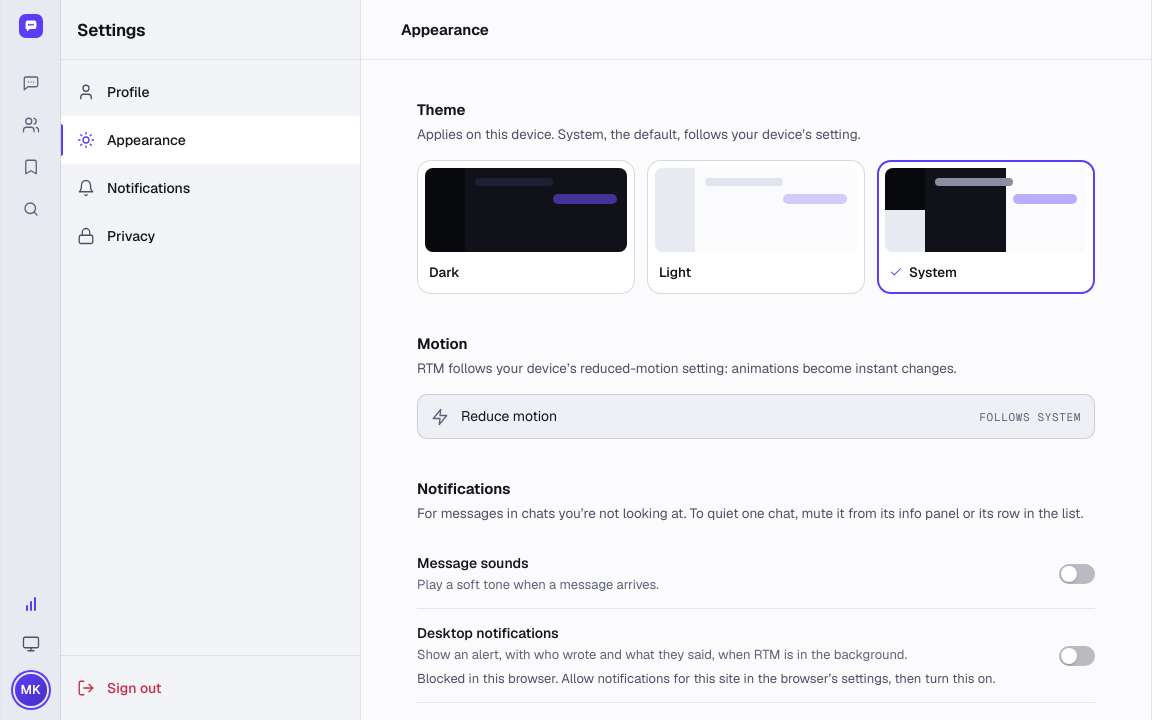
Test: Settings shell › goes back to the chat list from the rail
Click the button named "Chats": (30, 82) [12,64,48,100]
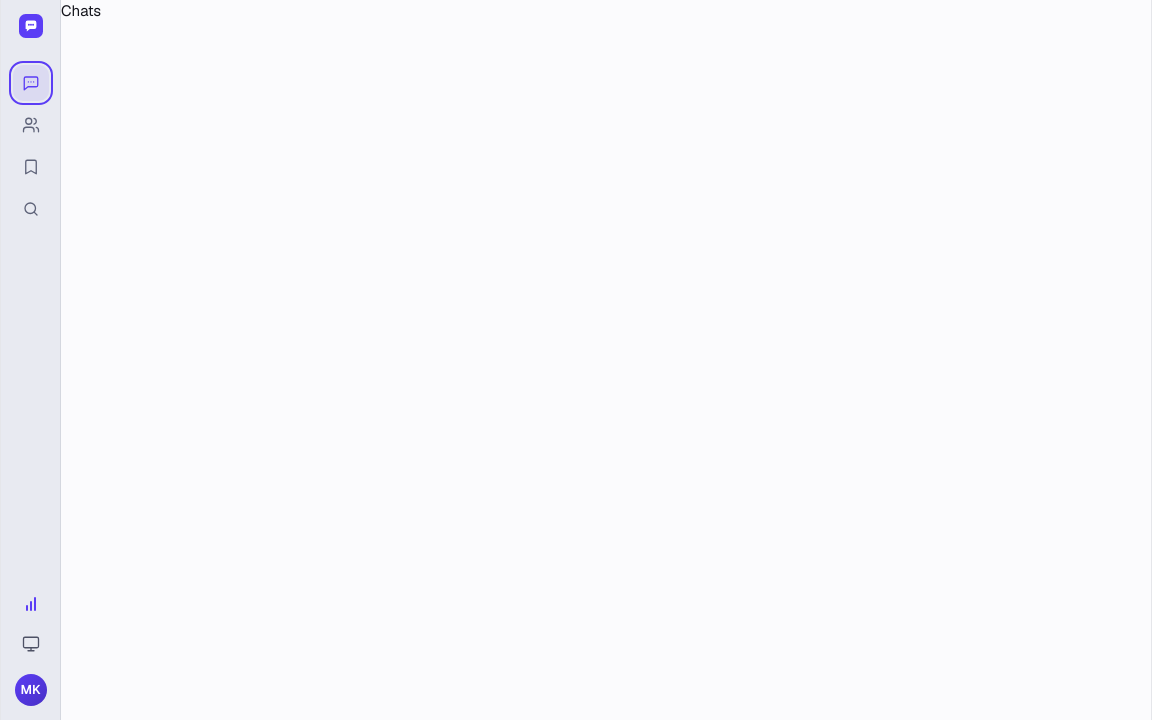
Result: the text with test id "where" reads "/conversations" at [0,1,102,20]
